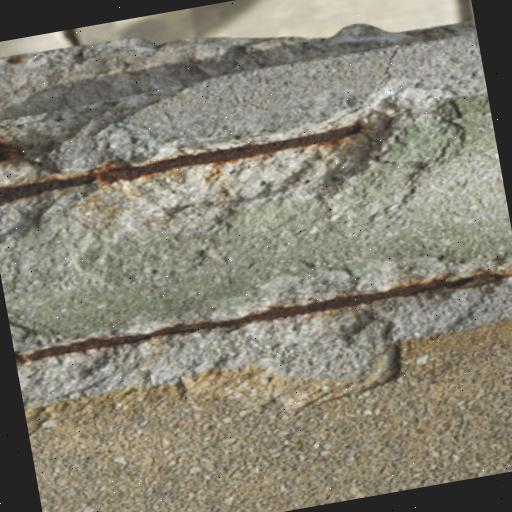spalling: (0, 70, 481, 279), (6, 228, 512, 411)
